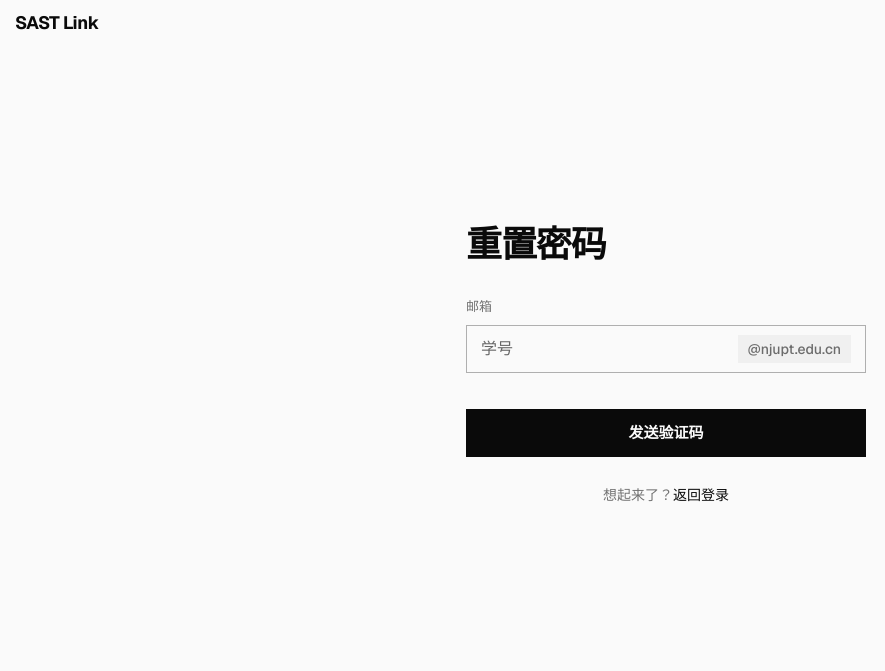
Test case: ResetPage › sends the code when Enter is pressed in the email field
Step 1. Type "alice" into the field labelled "邮箱" → (666, 349), box [481, 337, 851, 361]
Then press Enter
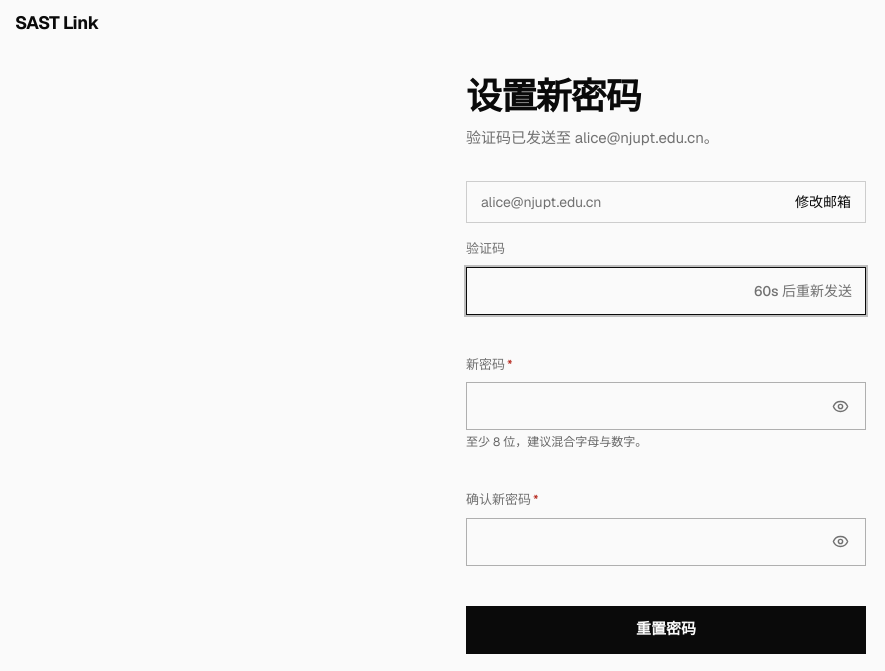
Expected: the heading "设置新密码" is shown, [466, 72, 641, 120]
